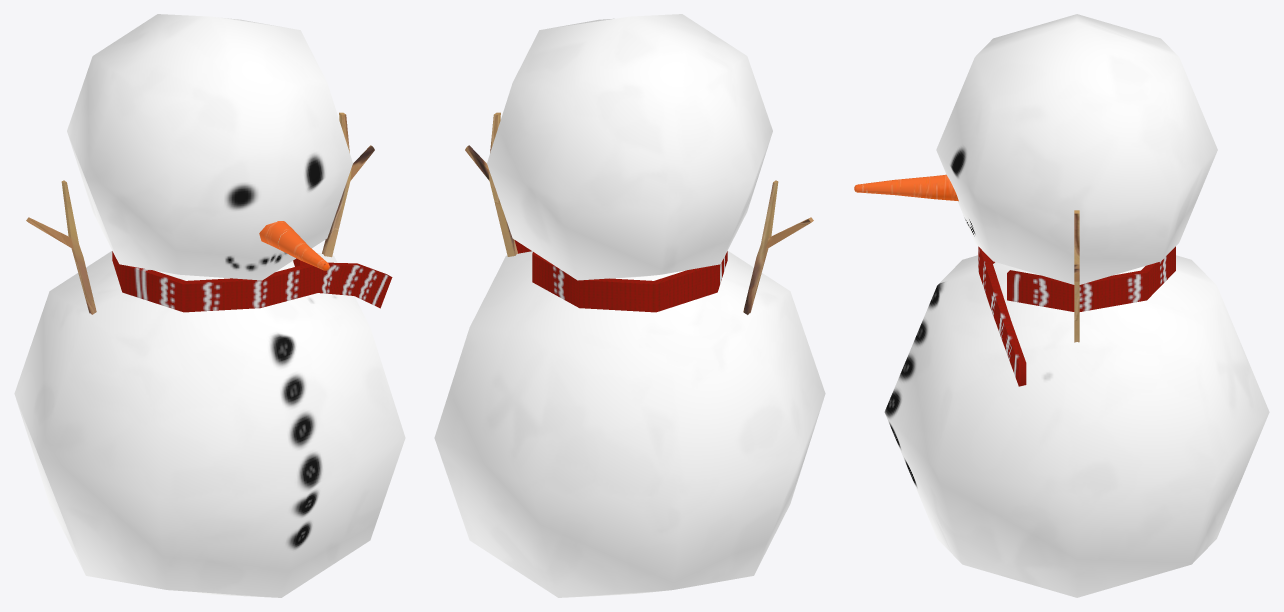
Rendered from Snowman.glb.
3 renders of one model, left to right at view 1: azimuth 30°, elevation 25°; view 2: azimuth 150°, elevation 25°; view 3: azimuth 270°, elevation 25°, orthographic. The views are drawn at different scales.
Visible parts, largest first — view 1: Winter_Snowman; view 2: Winter_Snowman; view 3: Winter_Snowman.
Part boxes in pixels (box(x1,y1,x2,y2)): Winter_Snowman: box(14, 14, 405, 597); Winter_Snowman: box(434, 14, 825, 597); Winter_Snowman: box(854, 14, 1269, 597).
Size of the model in its own units: 0.5099 by 0.7969 by 0.5313.
1 material, 1 textured.
